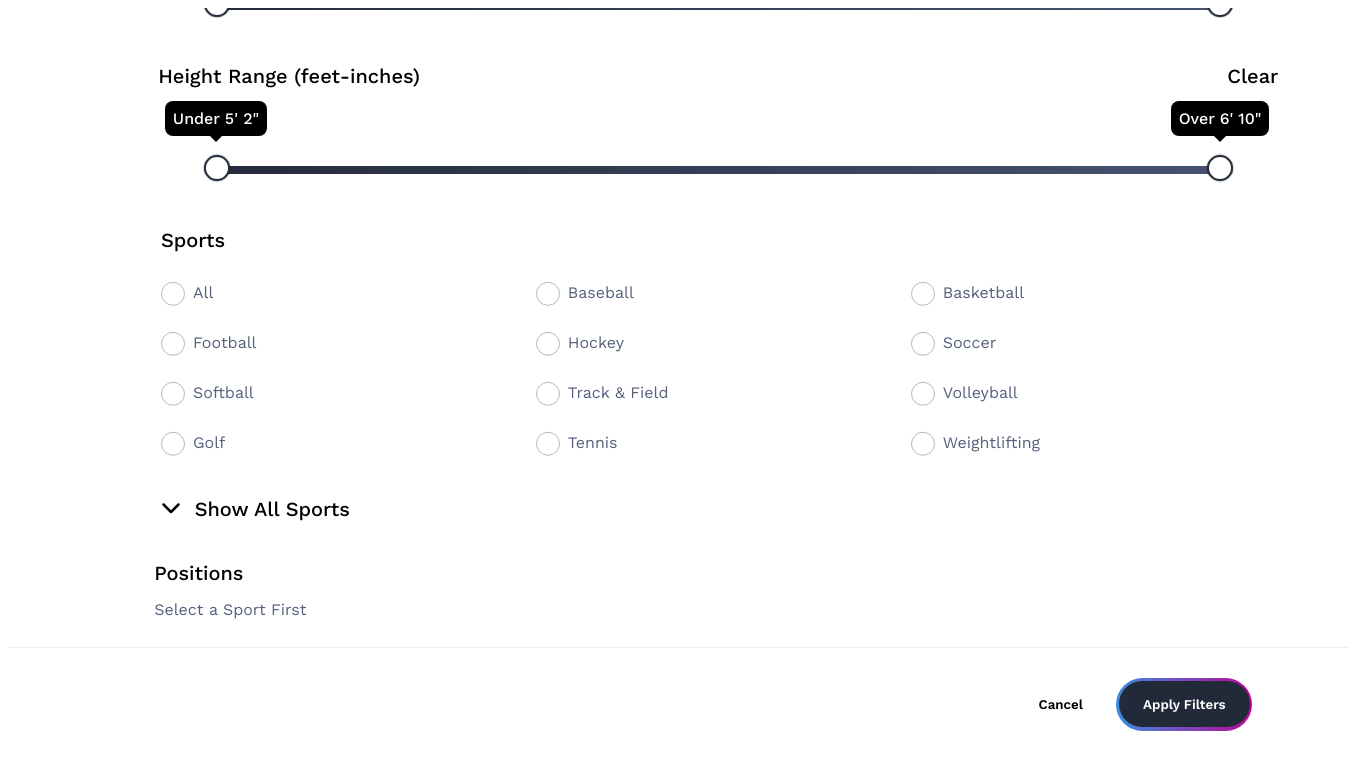
Test: Position Group › only displays radio buttons once a sport has been selected
(page scrolled)
Expected: the element showing "Positions Select a Sport First" is shown, [154,561,306,619]
Expected: the text "Positions" is shown, [154,561,243,585]
Step 1. Check the 1st radio button with class "radioItem" → (173, 294), box [161,282,185,306]
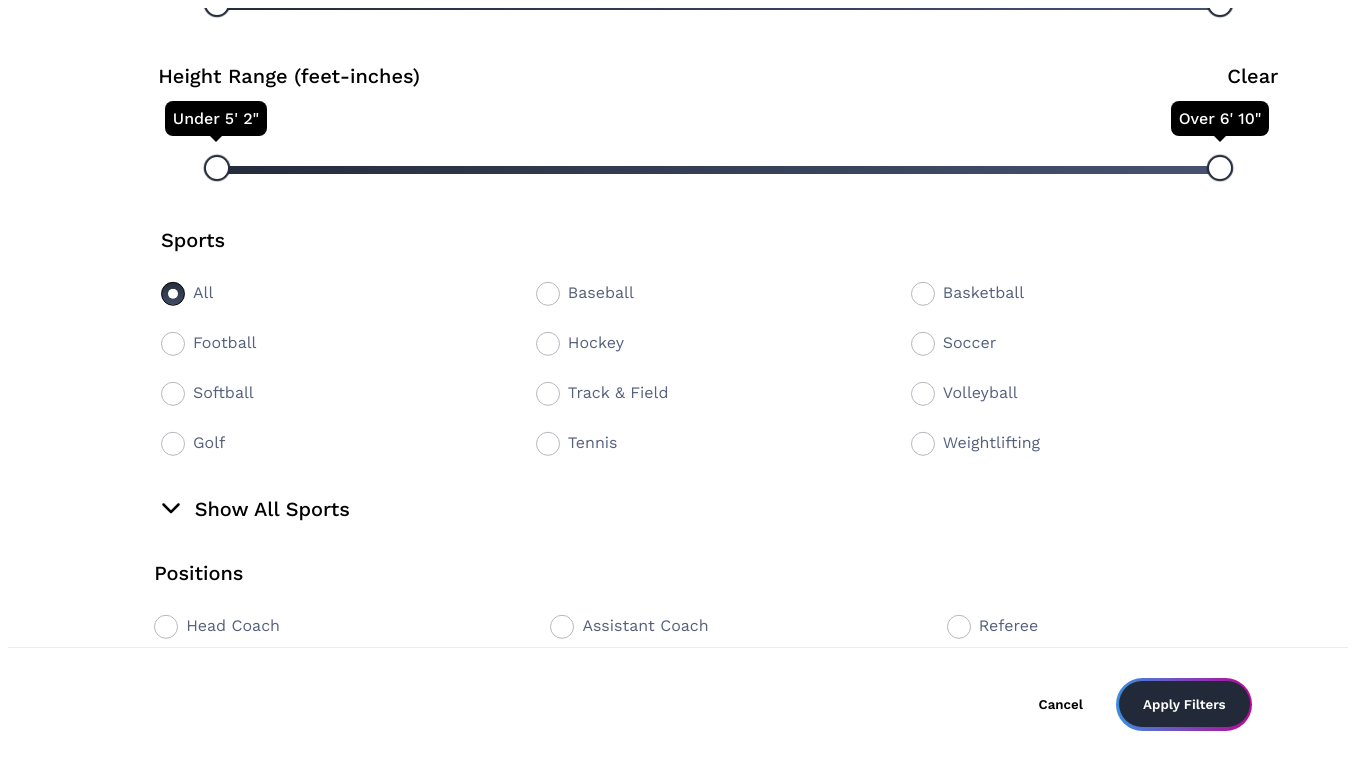
Expected: the radio button with class "radioItem" next to "Head Coach" is shown, [154,615,178,639]
Expected: the text "Select a Sport First" is gone
